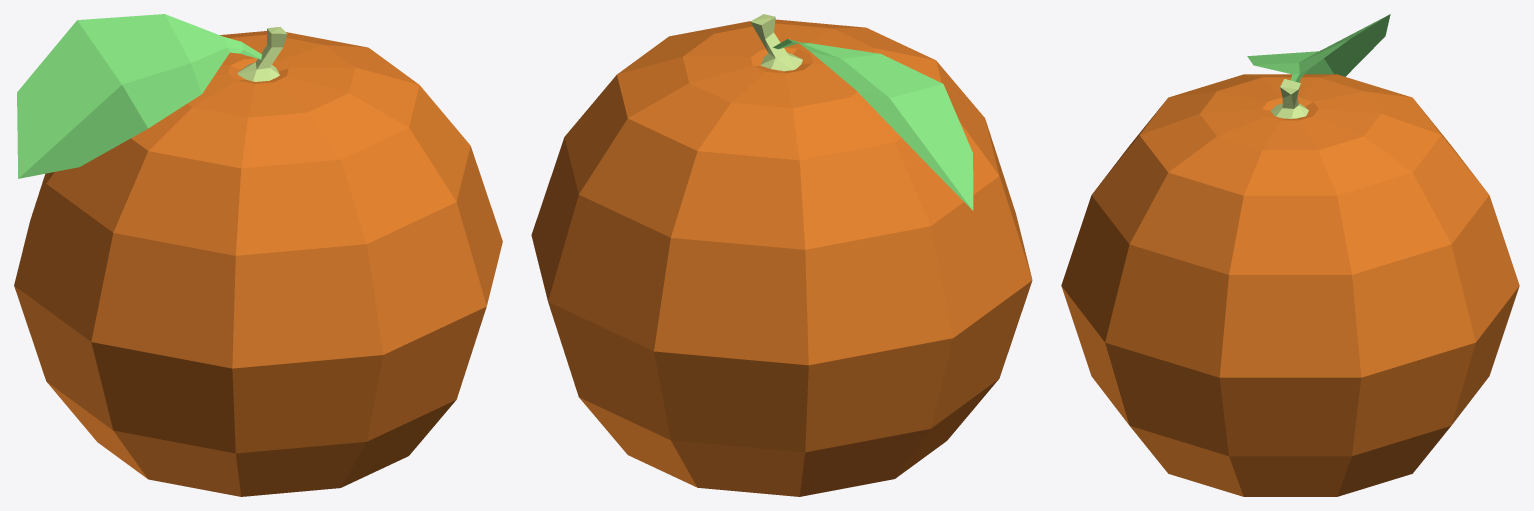
File: orange.fbx
3 views of the same model, side by side, from view 1: azimuth 30°, elevation 25°; view 2: azimuth 150°, elevation 25°; view 3: azimuth 270°, elevation 25° (orthographic). The views are drawn at different scales.
Parts seen in each view (by area): view 1: orange; view 2: orange; view 3: orange.
Part boxes in pixels (x1,y1,x2,y2): orange: (14,14,502,496); orange: (531,14,1032,496); orange: (1061,14,1519,496).
Bounding box in the file's own units: 193 × 192 × 200.
